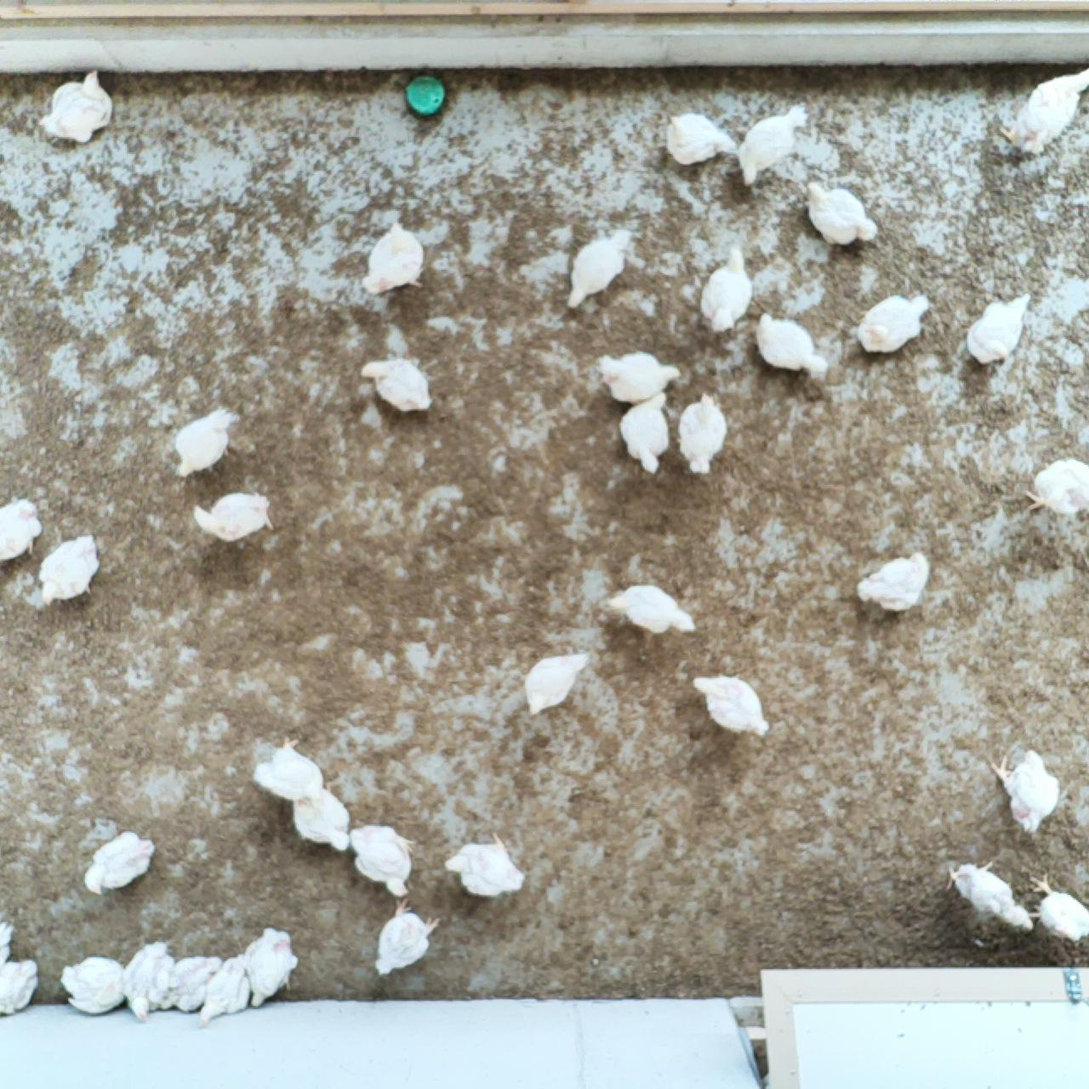chicken: (997, 60, 1089, 161), (942, 854, 1037, 938), (730, 99, 812, 188), (986, 744, 1065, 834), (35, 67, 120, 149), (562, 222, 637, 314), (439, 825, 530, 900), (597, 580, 702, 644), (691, 241, 757, 336), (373, 894, 444, 981), (357, 217, 429, 301), (688, 670, 773, 741), (346, 820, 421, 900), (850, 547, 938, 614), (80, 828, 158, 903), (962, 289, 1035, 369), (851, 292, 935, 361), (249, 731, 328, 803), (174, 405, 243, 486), (800, 181, 882, 249), (35, 531, 104, 610), (521, 647, 594, 721), (596, 344, 683, 406), (616, 387, 674, 479), (753, 311, 830, 380), (239, 923, 300, 1009), (1023, 867, 1089, 946), (674, 389, 731, 479), (188, 490, 278, 545), (195, 951, 256, 1032), (358, 352, 436, 415), (57, 949, 127, 1019), (662, 106, 738, 169), (122, 937, 175, 1026), (289, 785, 354, 857), (1017, 455, 1089, 516), (167, 951, 224, 1017), (0, 496, 46, 564), (0, 955, 42, 1018)
